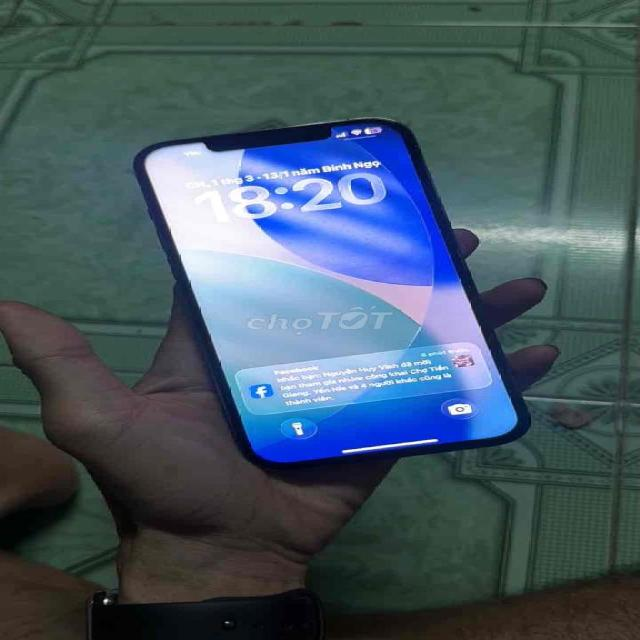gen_12_13: (129, 114, 531, 470)
